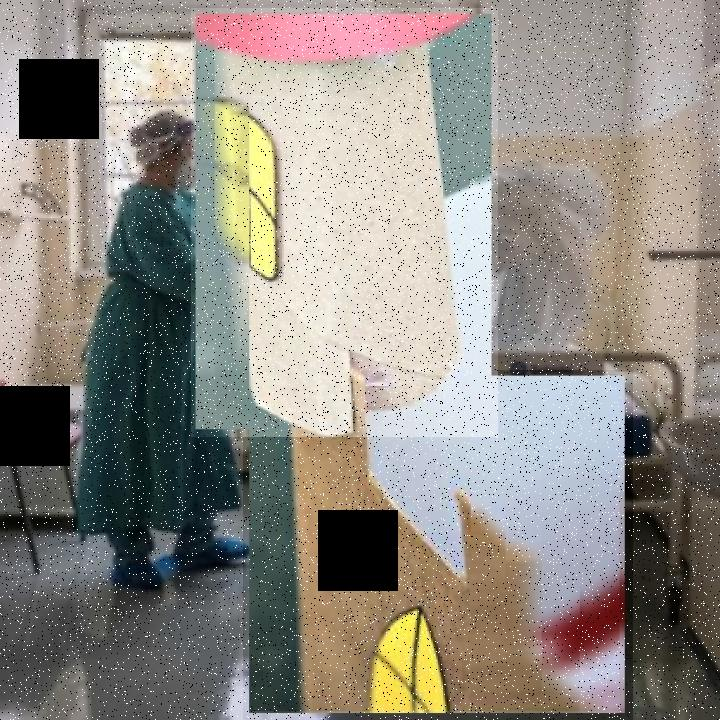box: (243, 370, 633, 720), (191, 8, 498, 437)
